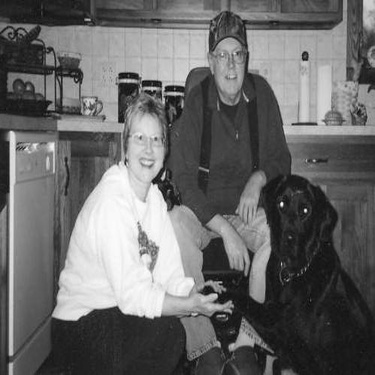dog: (191, 164, 370, 373)
